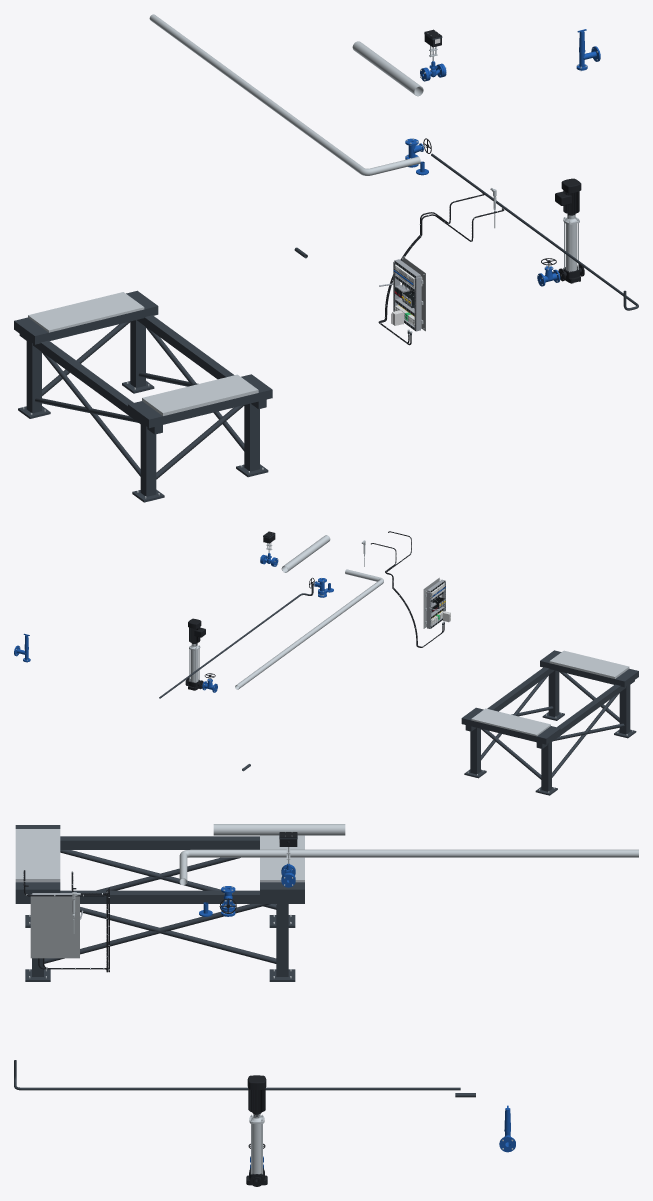
3 renders of one model, top to bottom at view 1: azimuth 30°, elevation 25°; view 2: azimuth 150°, elevation 25°; view 3: azimuth 270°, elevation 25°, orthographic. The views are drawn at different scales.
Parts seen in each view (by area): view 1: deaerator_support / dark, deaerator_support / steel, safety_vent_1 / steel, cabinet_interior / cabinet_interior_0.npz, steam_delivery / steel, tds_common / dark, pump_2 CAD solid 15; view 2: deaerator_support / dark, deaerator_support / steel, safety_vent_1 / steel, cabinet_interior / cabinet_interior_0.npz, tds_common / dark, steam_delivery / steel; view 3: deaerator_support / dark, safety_vent_1 / steel, deaerator_support / steel, cabinet_interior / cabinet_interior_0.npz, tds_common / dark, steam_delivery / steel, pump_2 CAD solid 15, wiring_lp200 / black.
Boxes of the visible parts, x1,y1,x2,y2 form: deaerator_support / dark: (14,290,272,502); deaerator_support / steel: (23,292,263,498); safety_vent_1 / steel: (149,14,420,175); cabinet_interior / cabinet_interior_0.npz: (379,256,425,331); steam_delivery / steel: (352,41,423,96); tds_common / dark: (431,153,638,310); pump_2 CAD solid 15: (555,178,581,214); deaerator_support / dark: (461,650,638,795); deaerator_support / steel: (467,650,632,792); safety_vent_1 / steel: (235,569,383,689); cabinet_interior / cabinet_interior_0.npz: (423,577,445,628); tds_common / dark: (159,582,313,698); steam_delivery / steel: (281,535,330,572); deaerator_support / dark: (15,825,304,981); safety_vent_1 / steel: (179,849,638,885); deaerator_support / steel: (15,829,304,978); cabinet_interior / cabinet_interior_0.npz: (30,893,83,958); tds_common / dark: (14,1060,460,1090); steam_delivery / steel: (213,824,345,835); pump_2 CAD solid 15: (247,1075,266,1113); wiring_lp200 / black: (23,870,107,972).
Size of the model in its own units: 8.24 by 3.24 by 6.14.
